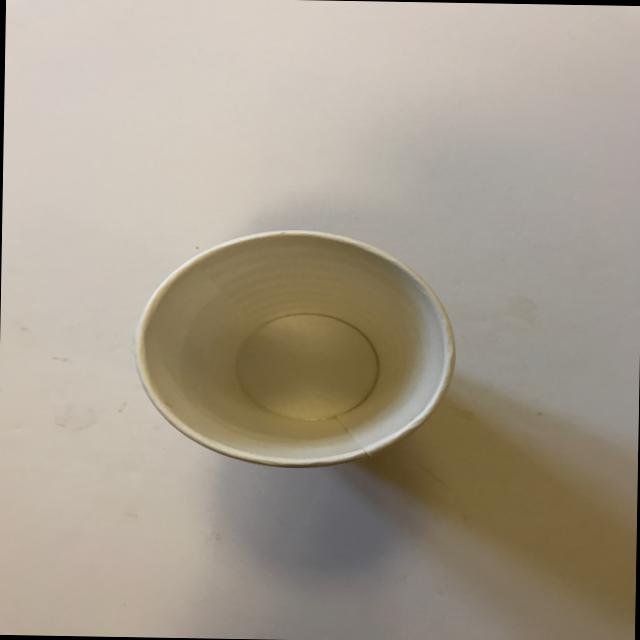Plastic: (111, 220, 472, 496)
